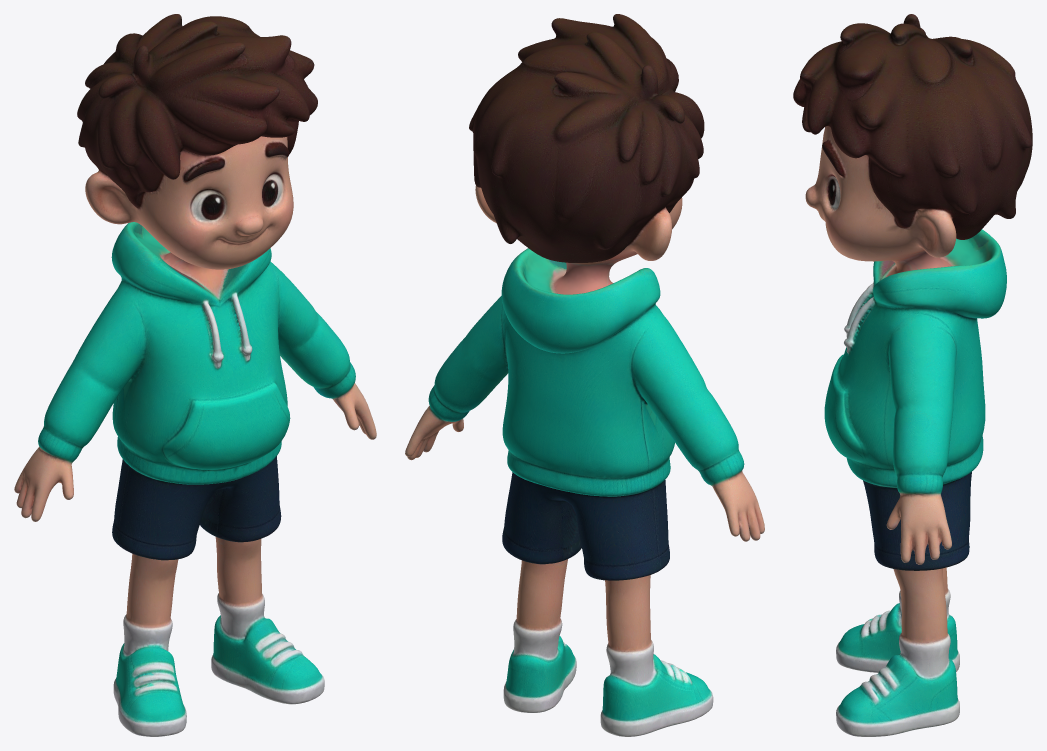
Rendered from Meshy_AI_Cartoon_Boy_in_Teal_H_0726155502_texture.fbx.
The picture shows the model from 3 angles, left to right: view 1: azimuth 30°, elevation 25°; view 2: azimuth 150°, elevation 25°; view 3: azimuth 270°, elevation 25°; orthographic projection.
Visible parts, largest first — view 1: mesh_node; view 2: mesh_node; view 3: mesh_node.
Boxes of the visible parts, bbox=[...] form: mesh_node: bbox=[14, 14, 376, 736]; mesh_node: bbox=[405, 14, 764, 736]; mesh_node: bbox=[793, 14, 1032, 736].
Bounding box in the file's own units: 103 × 190 × 61.95.
1 material, 1 textured.
